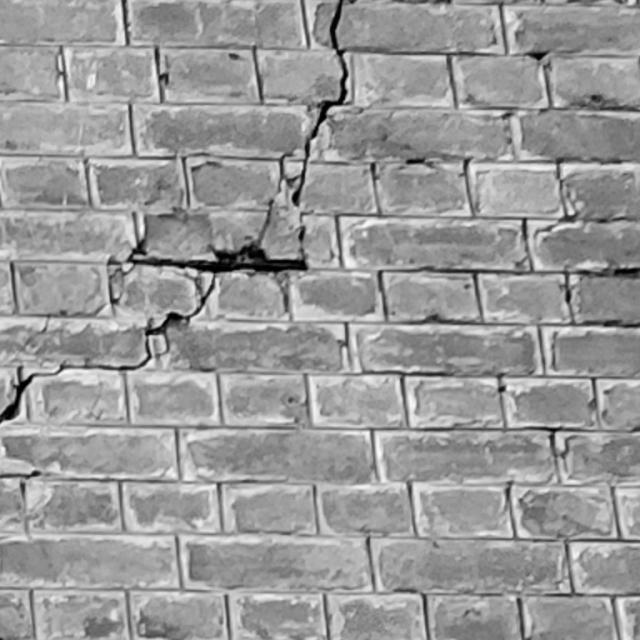crack: (1, 1, 347, 422)
